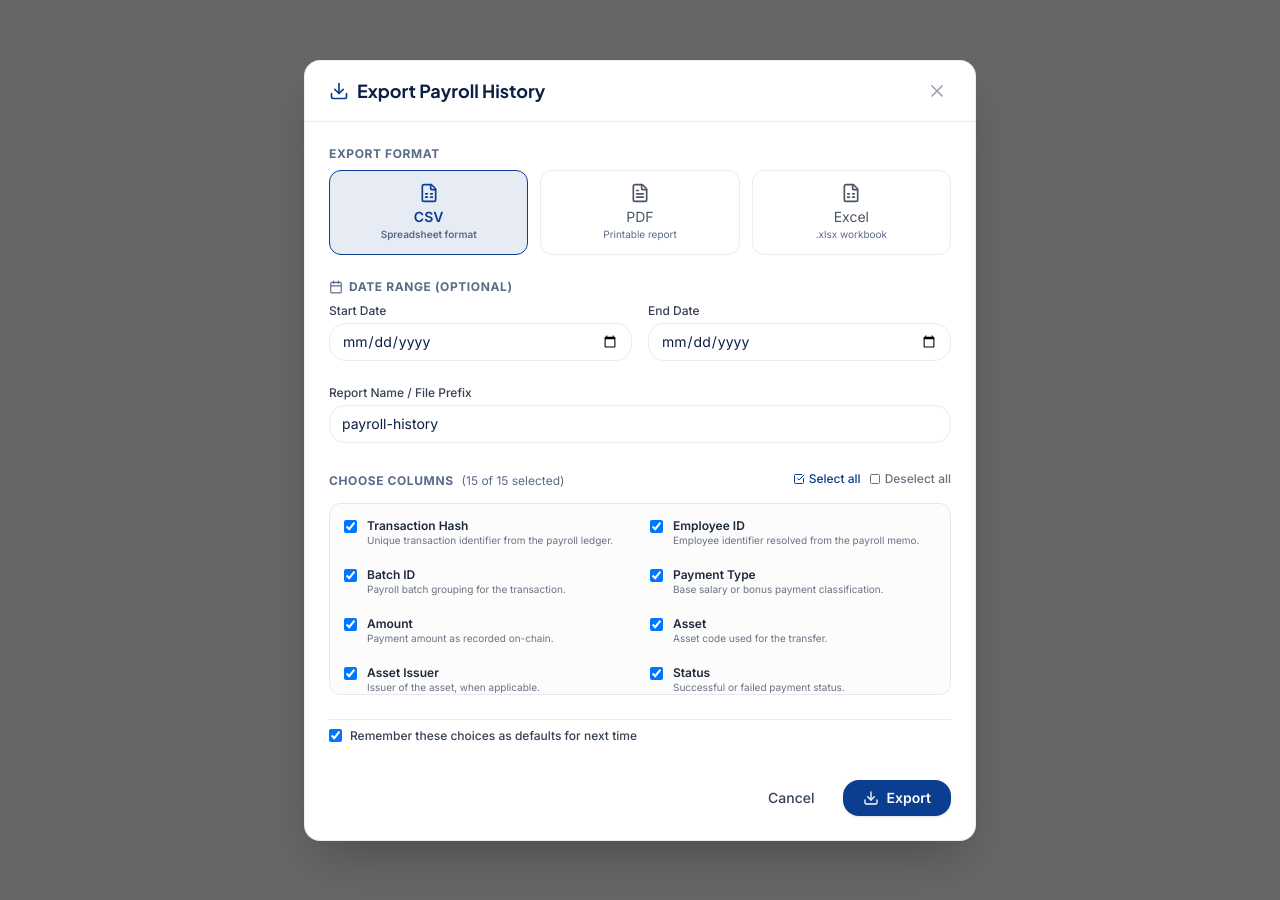
Test: ExportDialog component › allows switching format between CSV and PDF
This screenshot has width=1280, height=900.
Click the button with test id "format-option-pdf": (640, 212) [540,170,740,254]
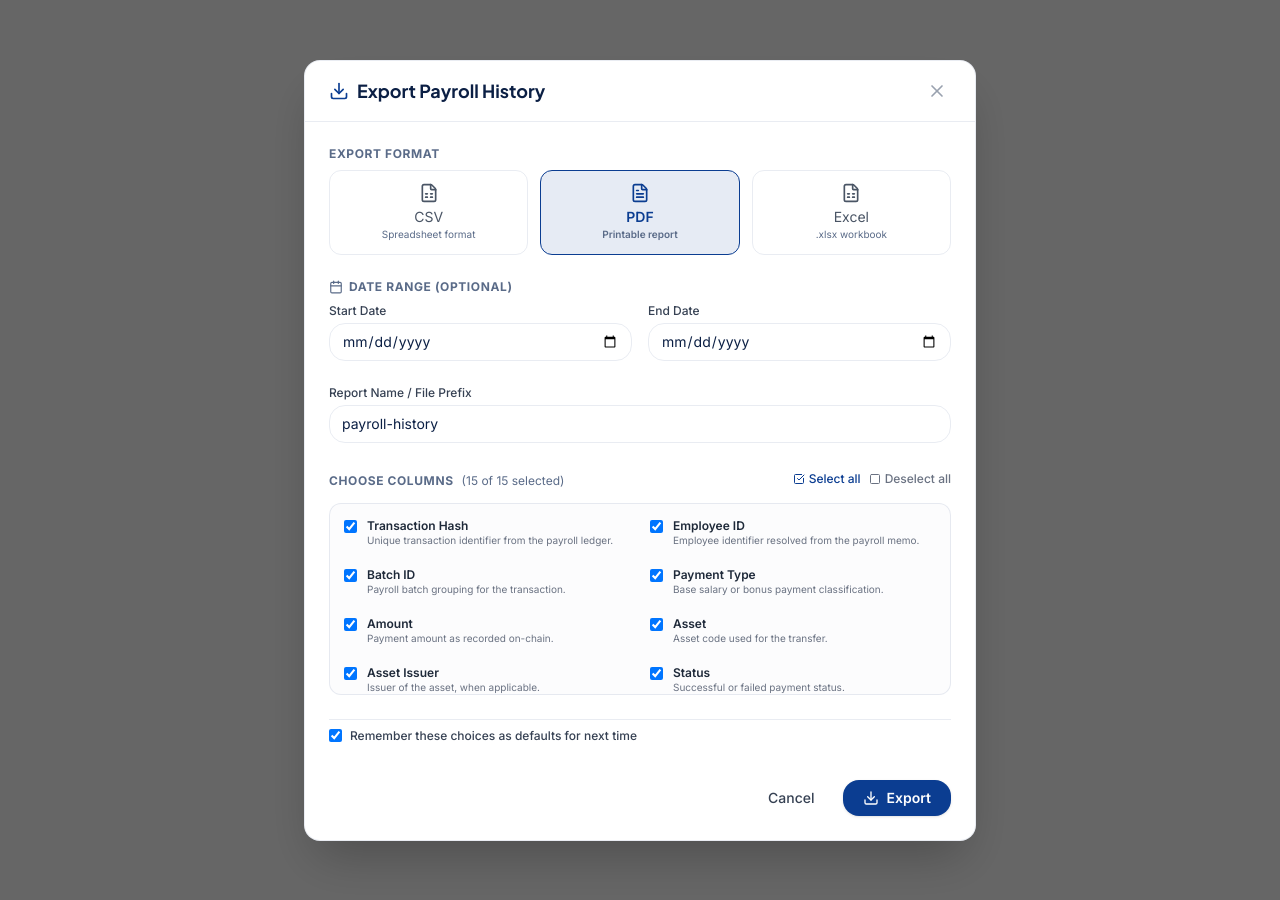
Result: the button with test id "format-option-pdf" has class "border-[var(--accent,#4f46e5)]" at [540,170,740,254]
